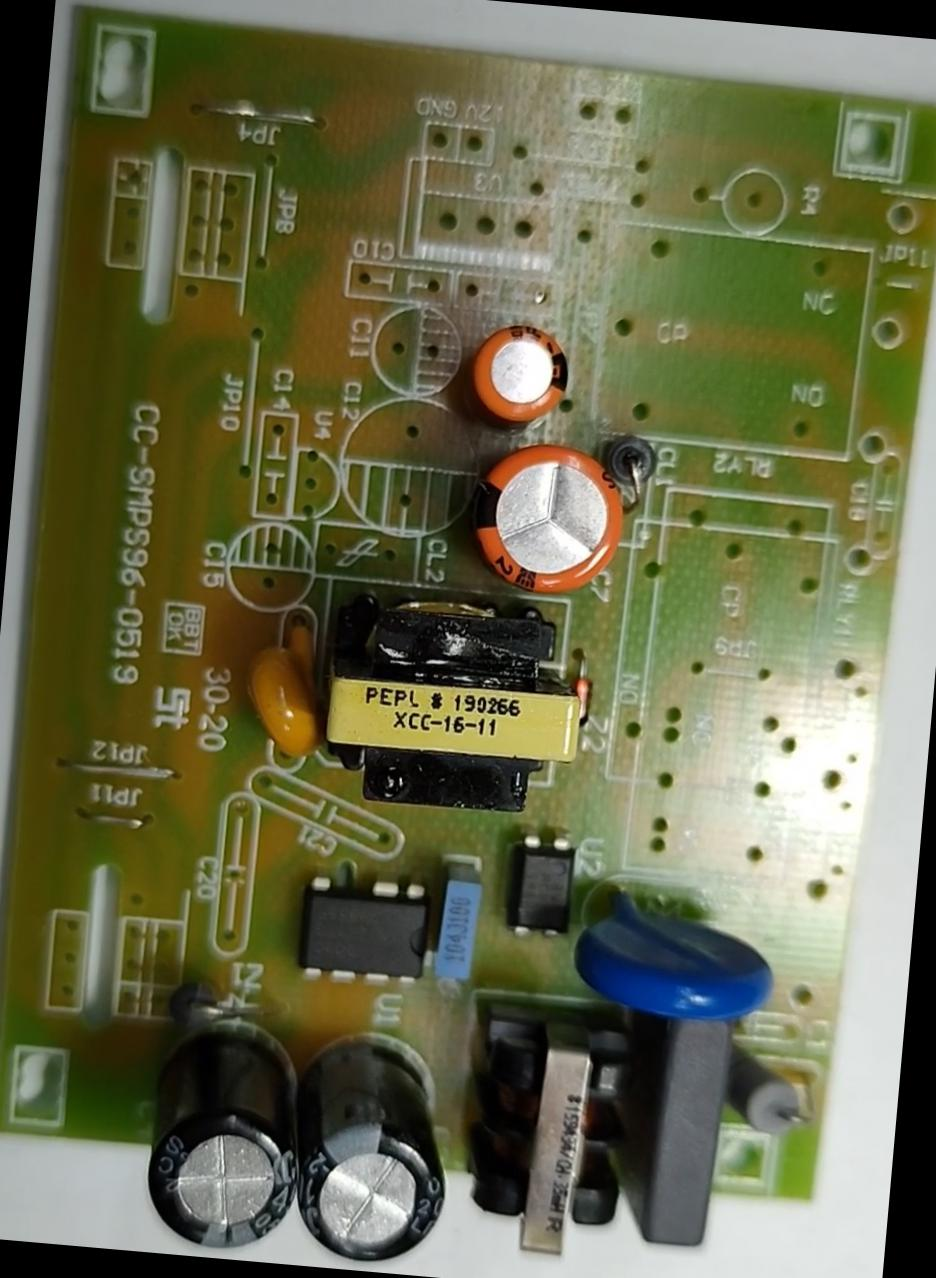Cap1: (454, 428, 632, 610)
Cap2: (456, 311, 577, 442)
Cap3: (281, 1024, 463, 1275)
Cap4: (128, 1007, 315, 1262)
MOSFET: (290, 860, 446, 998)
Mov: (560, 878, 788, 1030)
Resistor: (706, 1034, 812, 1144)
Transformer: (304, 570, 598, 823), (438, 981, 656, 1270)
